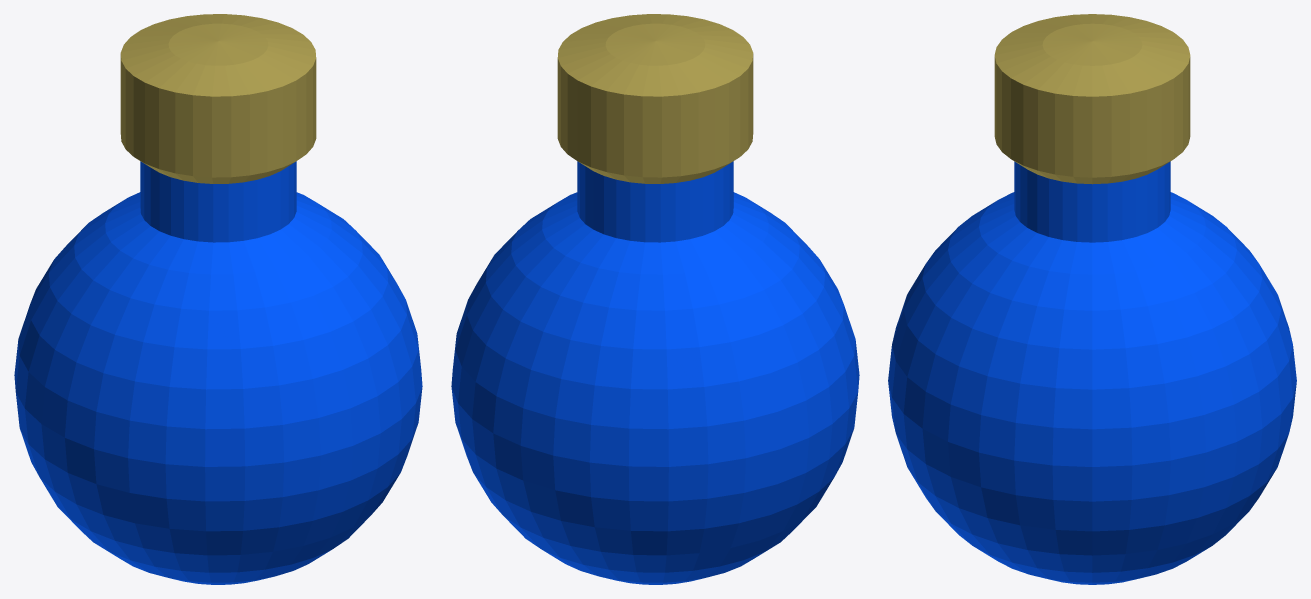
Rendered from flask.glb.
3 views of the same model, side by side, from view 1: azimuth 30°, elevation 25°; view 2: azimuth 150°, elevation 25°; view 3: azimuth 270°, elevation 25° (orthographic).
Parts seen in each view (by area): view 1: flask; view 2: flask; view 3: flask.
Part boxes in pixels (x1,y1,x2,y2): flask: (14,14,422,584); flask: (451,14,859,584); flask: (888,14,1296,584).
Bounding box in the file's own units: 0.2175 × 0.308 × 0.2175.
